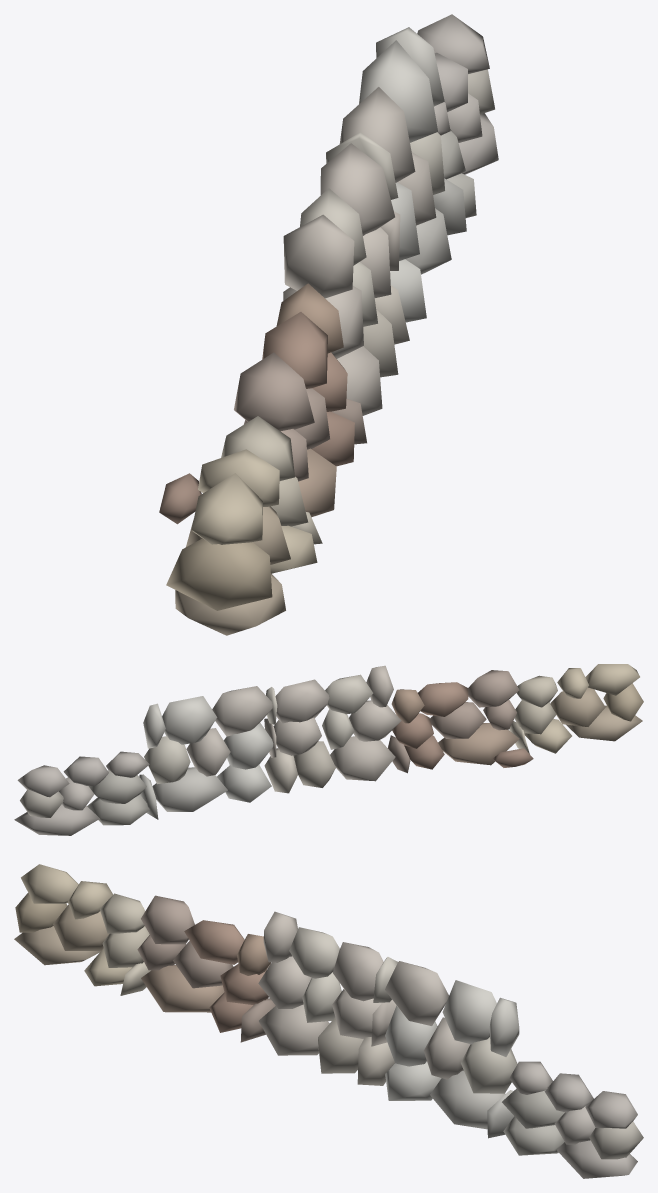
Rendered from farm_4_-3_near.glb.
The picture shows the model from 3 angles, top to bottom: view 1: azimuth 30°, elevation 25°; view 2: azimuth 150°, elevation 25°; view 3: azimuth 270°, elevation 25°; orthographic projection. The views are drawn at different scales.
Visible parts, largest first — view 1: geometry_0; view 2: geometry_0; view 3: geometry_0.
Boxes of the visible parts, bbox=[...] form: geometry_0: bbox=[159, 14, 498, 635]; geometry_0: bbox=[14, 664, 643, 835]; geometry_0: bbox=[14, 864, 643, 1178].
Bounding box in the file's own units: 5.48 × 1.56 × 6.27.
